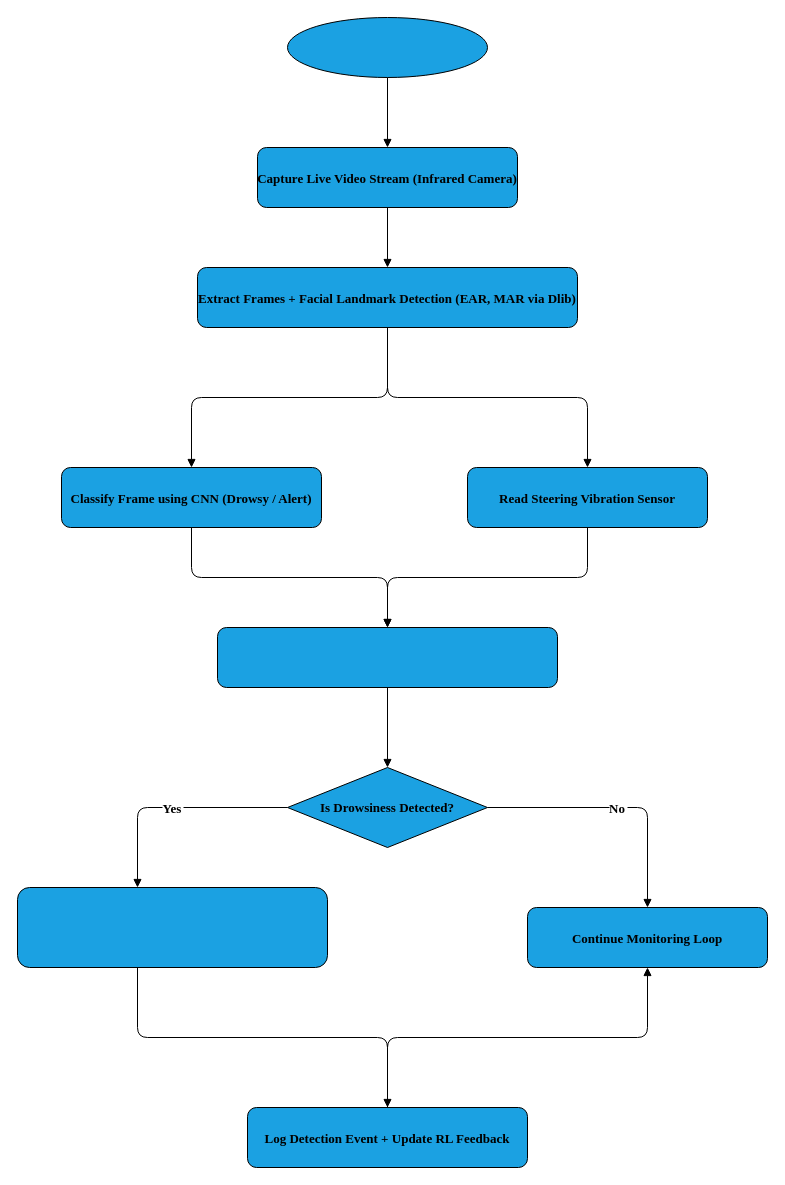
The diagram is 785 pixels wide and 1185 high, and some of its shapes have lost their labels. The shapes that lost their labels are listed below. From the top down, each one's box as (x1, y1, x2, y2) in pixels, then its label:
(286, 16, 488, 78): Start / System Initialization
(216, 626, 558, 688): Apply Reinforcement Learning (Adapt Thresholds)
(16, 886, 328, 968): Trigger speaker (custom audio) + vibration motor
